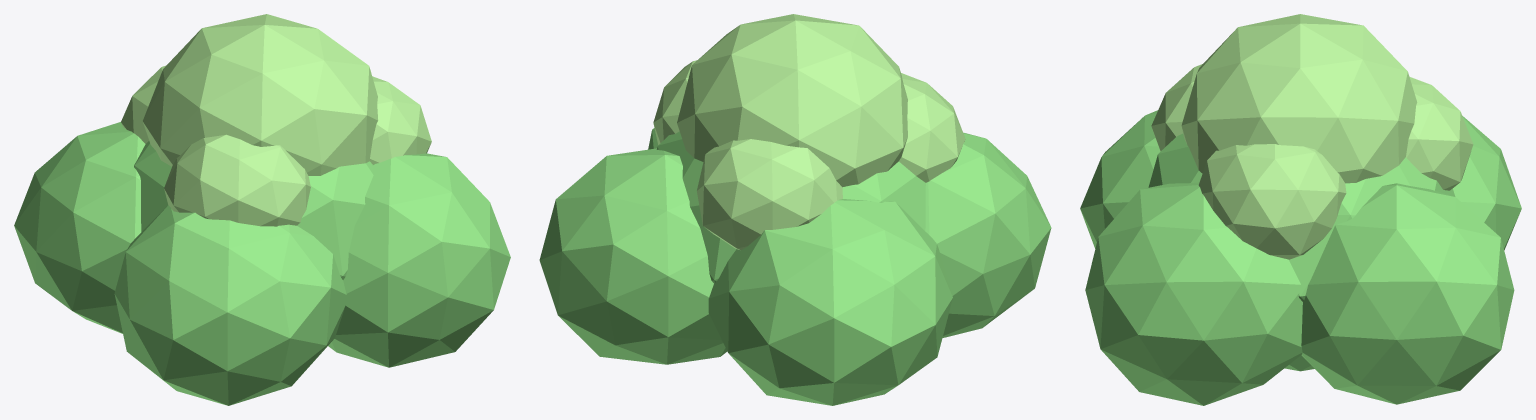
Rendered from CloverLeaves.glb.
The picture shows the model from 3 angles, left to right: view 1: azimuth 30°, elevation 25°; view 2: azimuth 150°, elevation 25°; view 3: azimuth 270°, elevation 25°; orthographic projection. The views are drawn at different scales.
Visible parts, largest first — view 1: CloverLeaves_Foliage, CloverLeaves_FoliageLight; view 2: CloverLeaves_Foliage, CloverLeaves_FoliageLight; view 3: CloverLeaves_Foliage, CloverLeaves_FoliageLight.
Boxes of the visible parts, x1=… form: CloverLeaves_Foliage: x1=14, y1=122, x2=510, y2=405; CloverLeaves_FoliageLight: x1=121, y1=14, x2=431, y2=226; CloverLeaves_Foliage: x1=539, y1=128, x2=1051, y2=405; CloverLeaves_FoliageLight: x1=653, y1=14, x2=965, y2=250; CloverLeaves_Foliage: x1=1080, y1=110, x2=1521, y2=405; CloverLeaves_FoliageLight: x1=1151, y1=14, x2=1473, y2=259.
Size of the model in its own units: 3.35 by 2.83 by 3.4.
